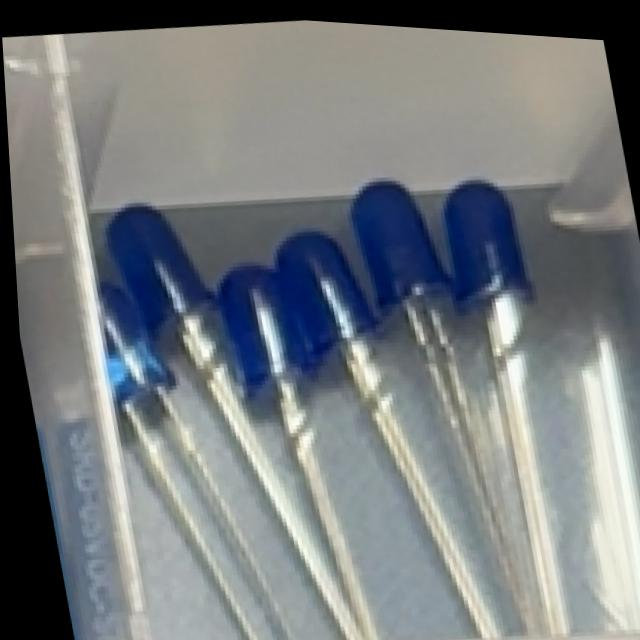BLUE_LED: (106, 182, 331, 640), (267, 209, 506, 640), (343, 164, 525, 640), (434, 169, 597, 640), (83, 269, 284, 640), (214, 249, 369, 640)
